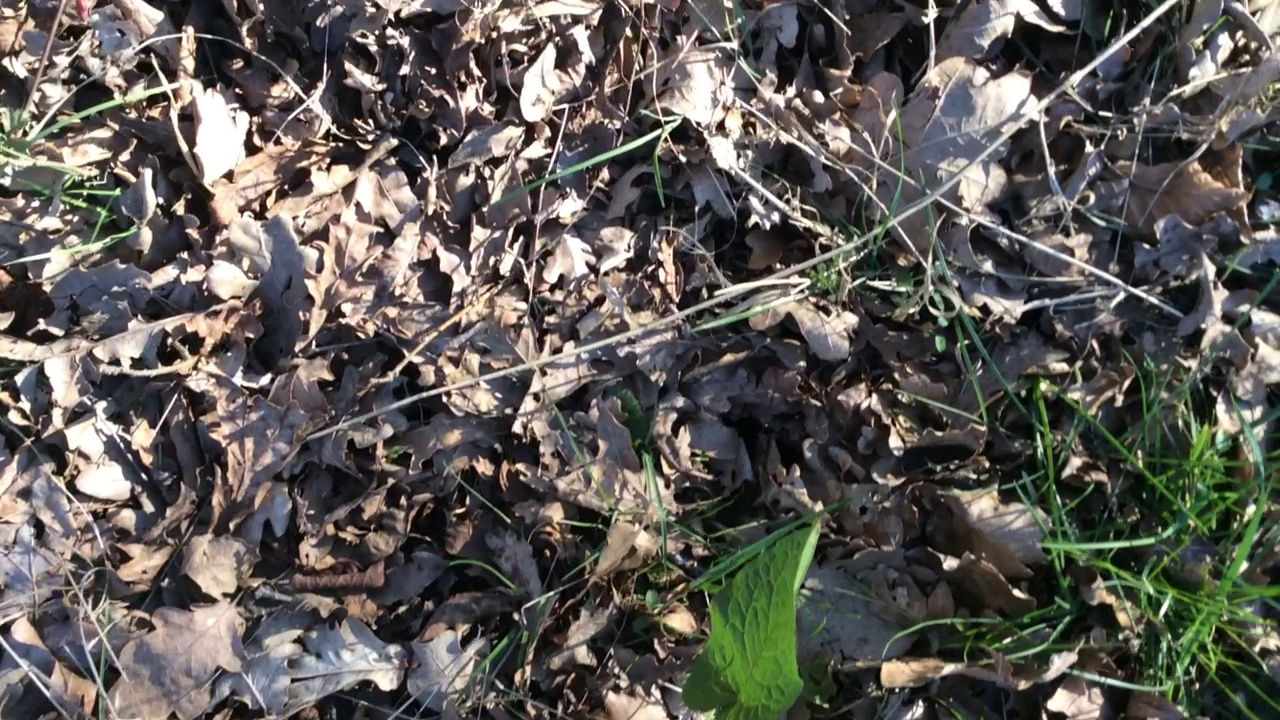rumex: (684, 522, 823, 720)
